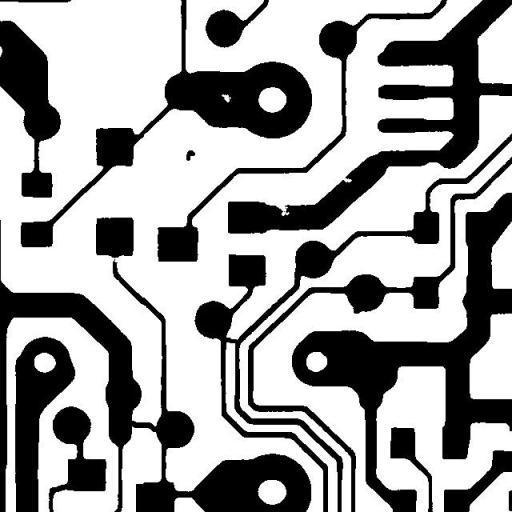copper: (178, 142, 202, 168)
mousebite: (268, 197, 297, 223), (334, 166, 360, 190)
open: (100, 250, 130, 270)
pin-hole: (214, 86, 238, 110)
short: (118, 412, 172, 441), (215, 330, 245, 350)
spur: (344, 299, 370, 321)
